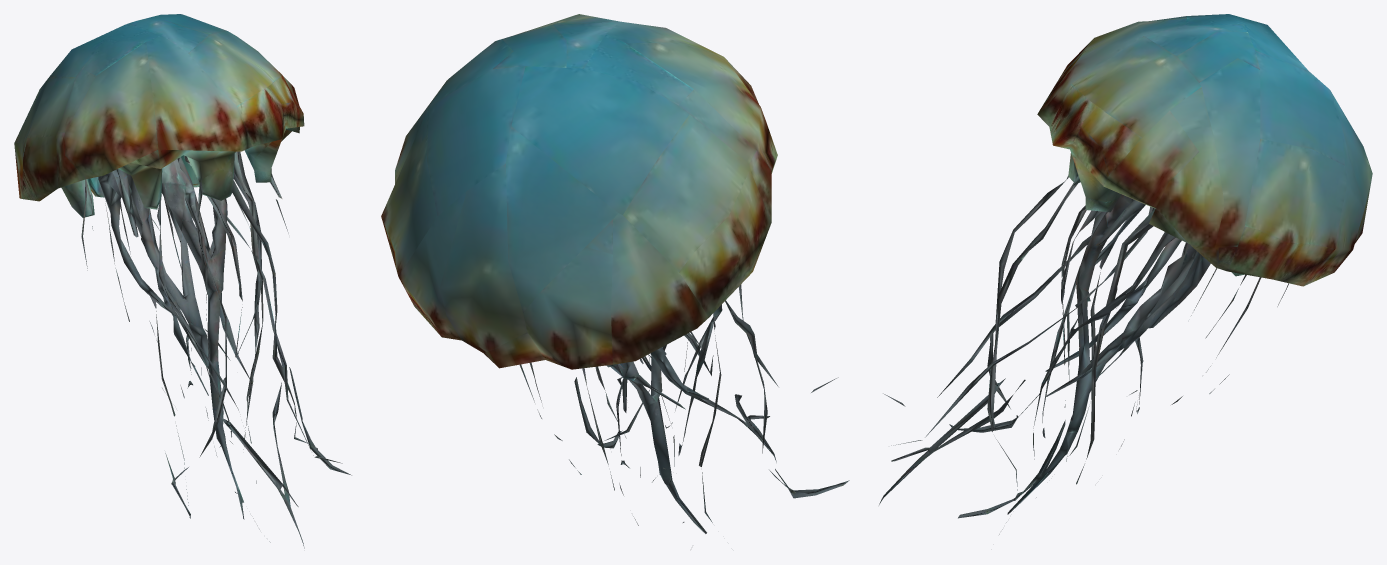
The model's file is jellyfish.glb.
3 renders of one model, left to right at view 1: azimuth 30°, elevation 25°; view 2: azimuth 150°, elevation 25°; view 3: azimuth 270°, elevation 25°, orthographic. The views are drawn at different scales.
Size of the model in its own units: 1.09 by 1.83 by 1.59.
Materials: 1 (1 with a texture image).
